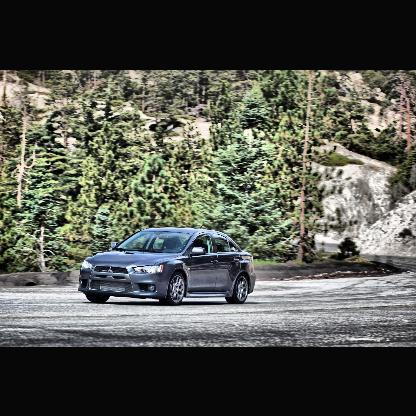Mitsubishi Lancer Sedan 2012: (77, 226, 257, 306)
